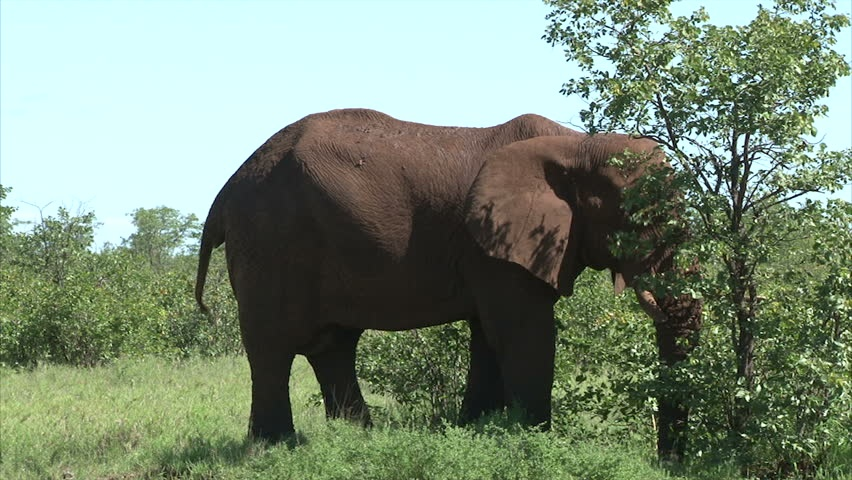elephant: (194, 105, 712, 452)
